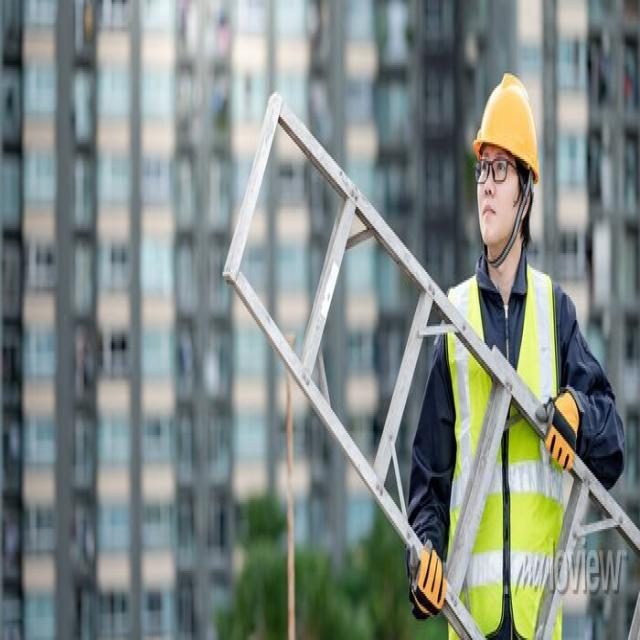goggles: (473, 145, 534, 203)
helmet: (475, 73, 541, 184)
vest: (433, 265, 576, 640)
